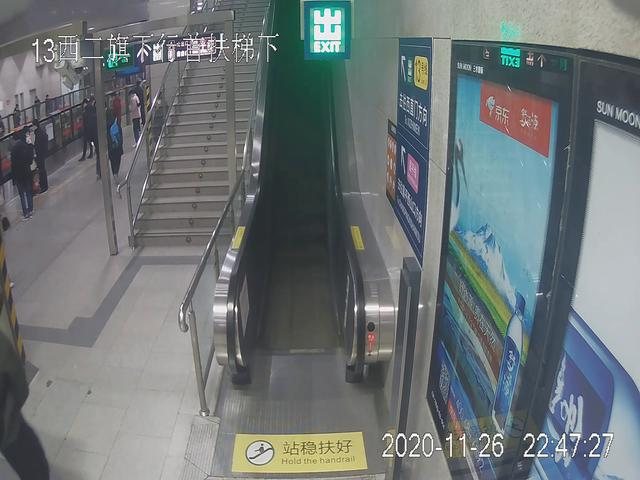person: (7, 133, 32, 221), (103, 114, 129, 186), (31, 115, 53, 200), (79, 98, 97, 167), (128, 92, 145, 154)
